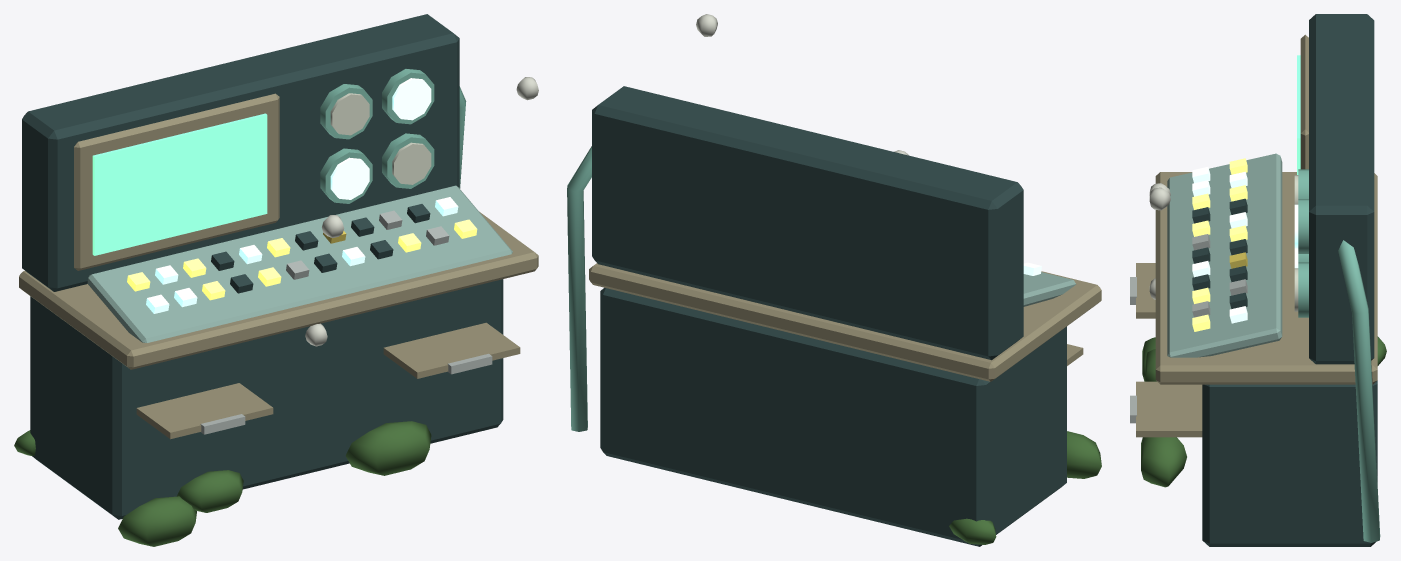
Rendered from dr_console.glb.
The picture shows the model from 3 angles, left to right: view 1: azimuth 30°, elevation 25°; view 2: azimuth 150°, elevation 25°; view 3: azimuth 270°, elevation 25°; orthographic projection.
Parts seen in each view (by area): view 1: dr_console; view 2: dr_console; view 3: dr_console.
Boxes of the visible parts, x1,y1,x2,y2 form: dr_console: [14, 14, 538, 546]; dr_console: [567, 14, 1101, 546]; dr_console: [1130, 14, 1386, 546].
Size of the model in its own units: 2.16 by 1.75 by 1.1.
